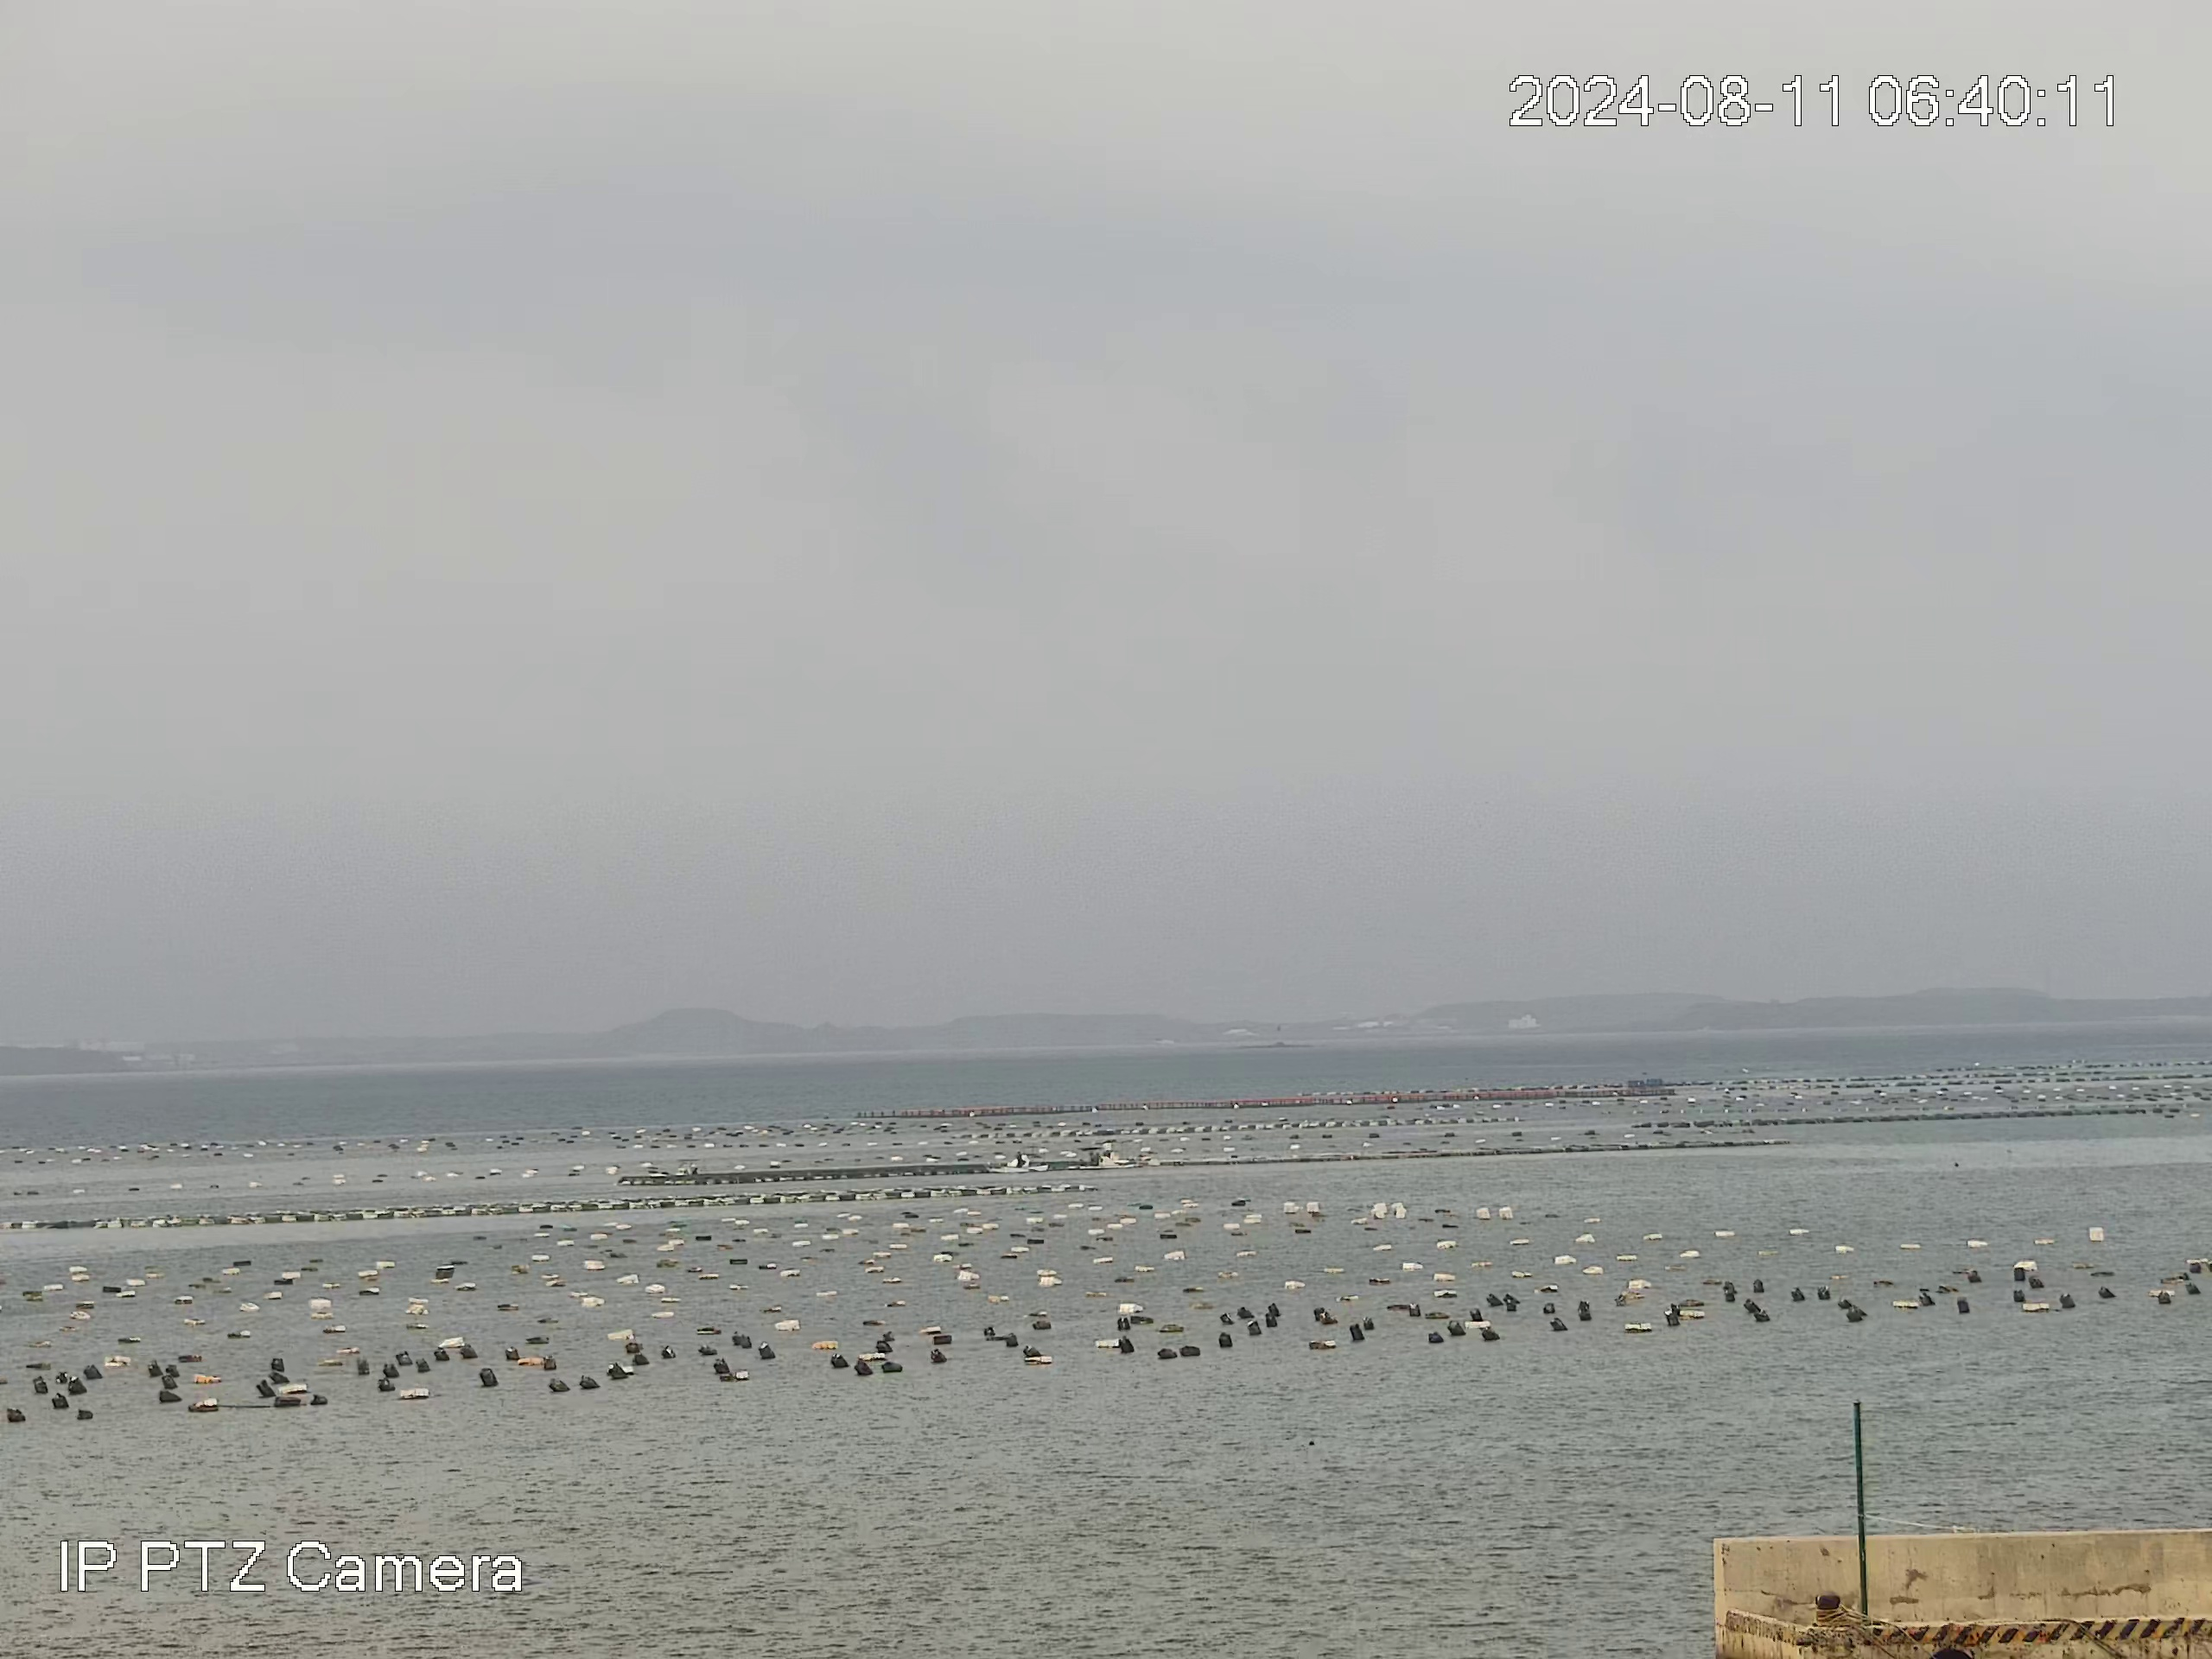boat: (1062, 1143, 1118, 1169), (984, 1154, 1049, 1173)
